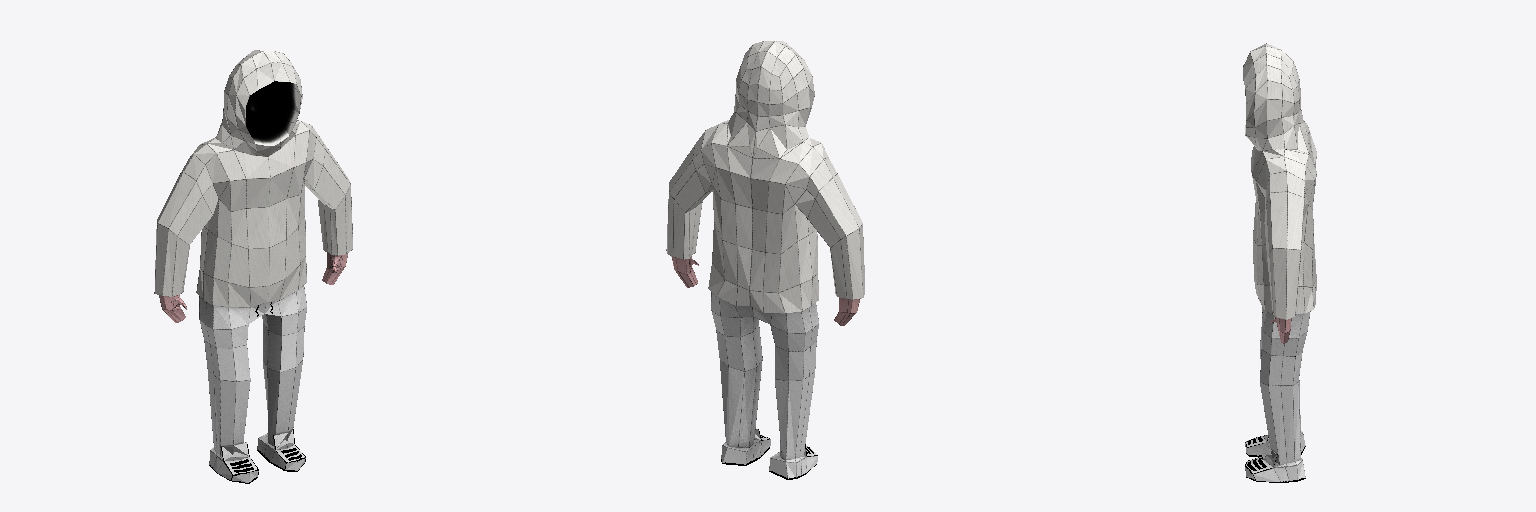
3 views of the same model, side by side, from view 1: azimuth 30°, elevation 25°; view 2: azimuth 150°, elevation 25°; view 3: azimuth 270°, elevation 25° (orthographic).
Parts seen in each view (by area): view 1: Cube.000; view 2: Cube.000; view 3: Cube.000.
Boxes of the visible parts, x1,y1,x2,y2 form: Cube.000: [154, 50, 352, 483]; Cube.000: [666, 41, 864, 479]; Cube.000: [1243, 43, 1316, 482].
Bounding box in the file's own units: 5.81 × 11.85 × 1.9.
Materials: 1 (1 with a texture image).